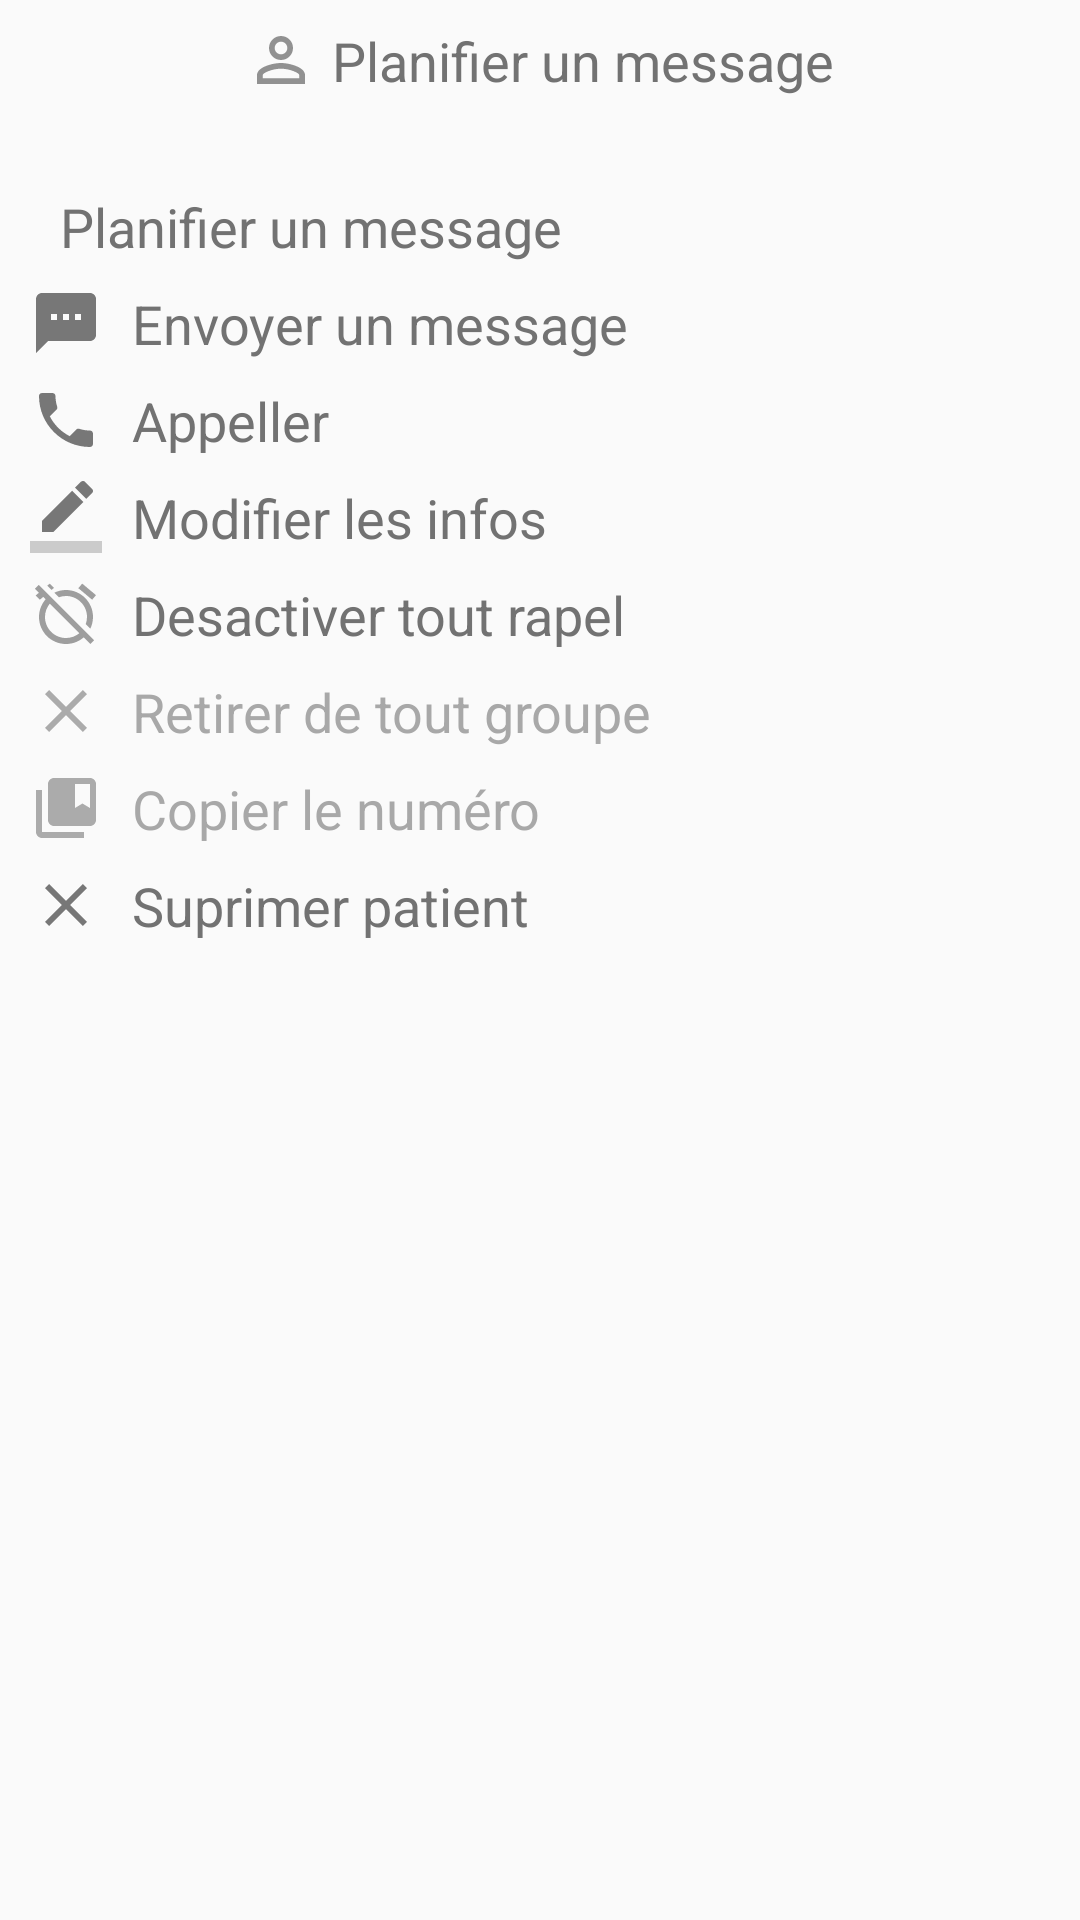

Named icons in this screenshot (1080 × 1920) and their centers, (x=x, y=y):
alarm off: (x=65, y=614)
call: (x=66, y=420)
clear delete: (x=66, y=711), (x=66, y=905)
edit: (x=66, y=517)
person profile: (x=281, y=60)
textsms: (x=66, y=323)
